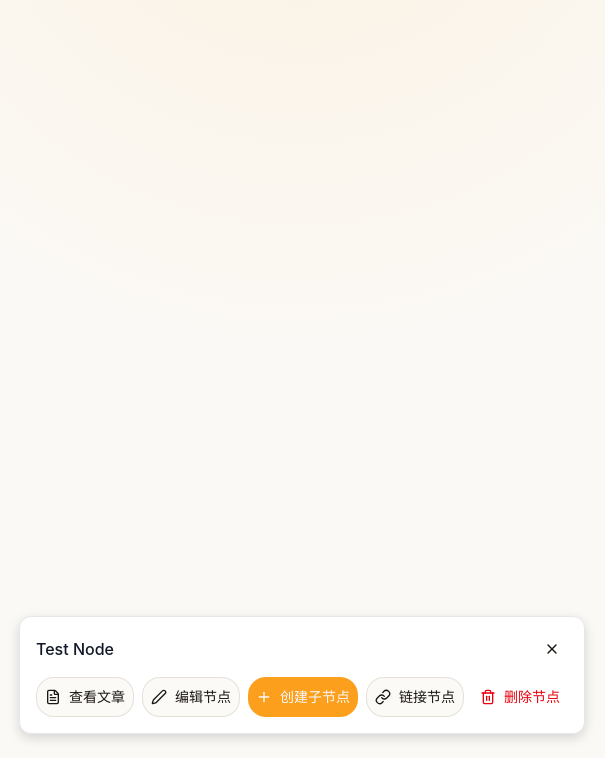
Test: NoteNodeActionPanel › should enter edit mode when title is clicked
The image size is (605, 758).
Click the button "Test Node" at coordinates (75, 649), box x1=36 y1=639 x2=114 y2=659
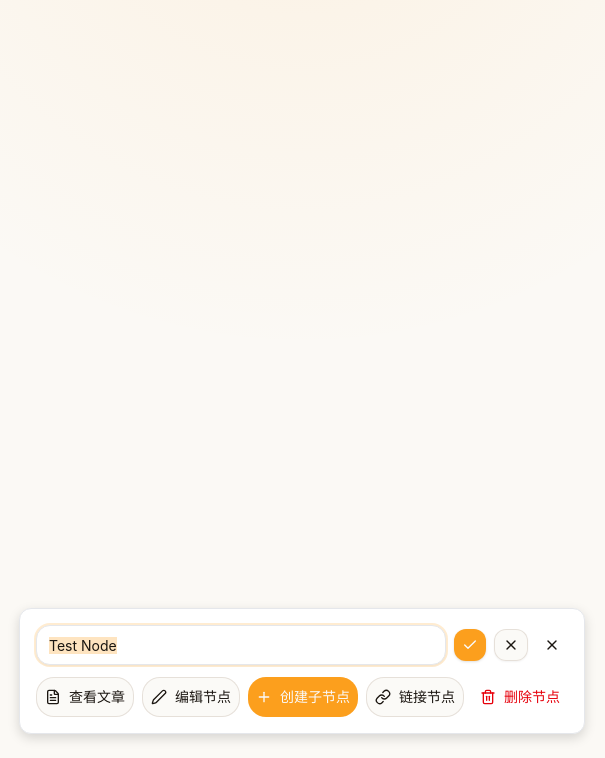
Expected: the field showing "Test Node" is shown, x1=36 y1=625 x2=446 y2=665
